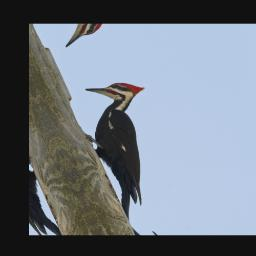Woodpecker: (67, 69, 193, 212)
